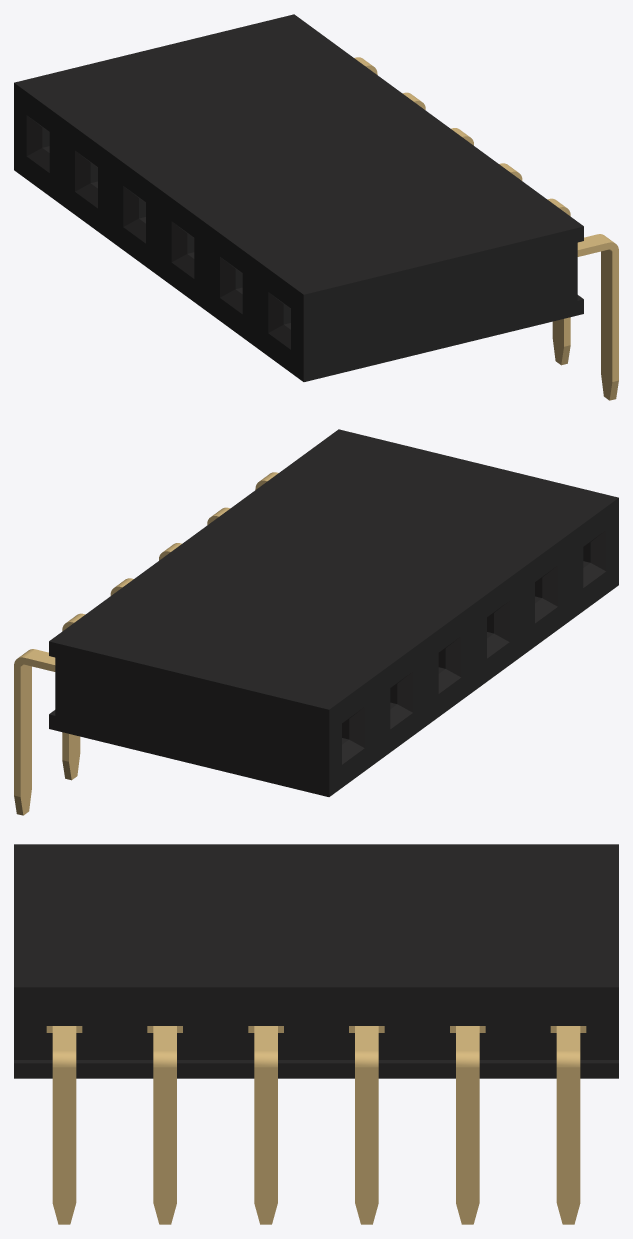
Rendered from kc-pinsocket_1x06_p2.54mm_horizontal.glb.
The picture shows the model from 3 angles, top to bottom: view 1: azimuth 30°, elevation 25°; view 2: azimuth 150°, elevation 25°; view 3: azimuth 270°, elevation 25°; orthographic projection. The views are drawn at different scales.
Visible parts, largest first — view 1: 0_0_0_0, 0.75_0.5_0.25_0.9; view 2: 0_0_0_0, 0.75_0.5_0.25_0.9; view 3: 0_0_0_0, 0.75_0.5_0.25_0.9.
Boxes of the visible parts, bbox=[...] form: 0_0_0_0: bbox=[14, 14, 583, 381]; 0.75_0.5_0.25_0.9: bbox=[354, 57, 618, 400]; 0_0_0_0: bbox=[49, 429, 618, 796]; 0.75_0.5_0.25_0.9: bbox=[14, 472, 278, 815]; 0_0_0_0: bbox=[14, 844, 618, 1078]; 0.75_0.5_0.25_0.9: bbox=[46, 1026, 586, 1224].
Bounding box in the file's own units: 1.01 × 0.584 × 1.52.
